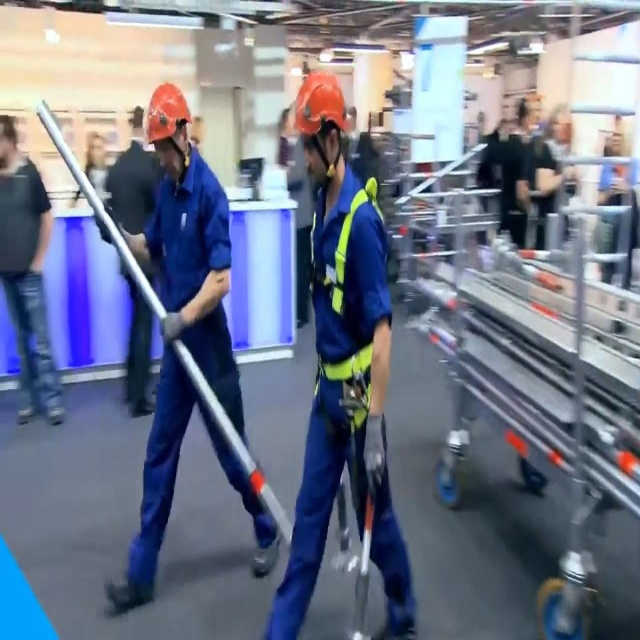Arnes_seguridad: (301, 176, 381, 440)
